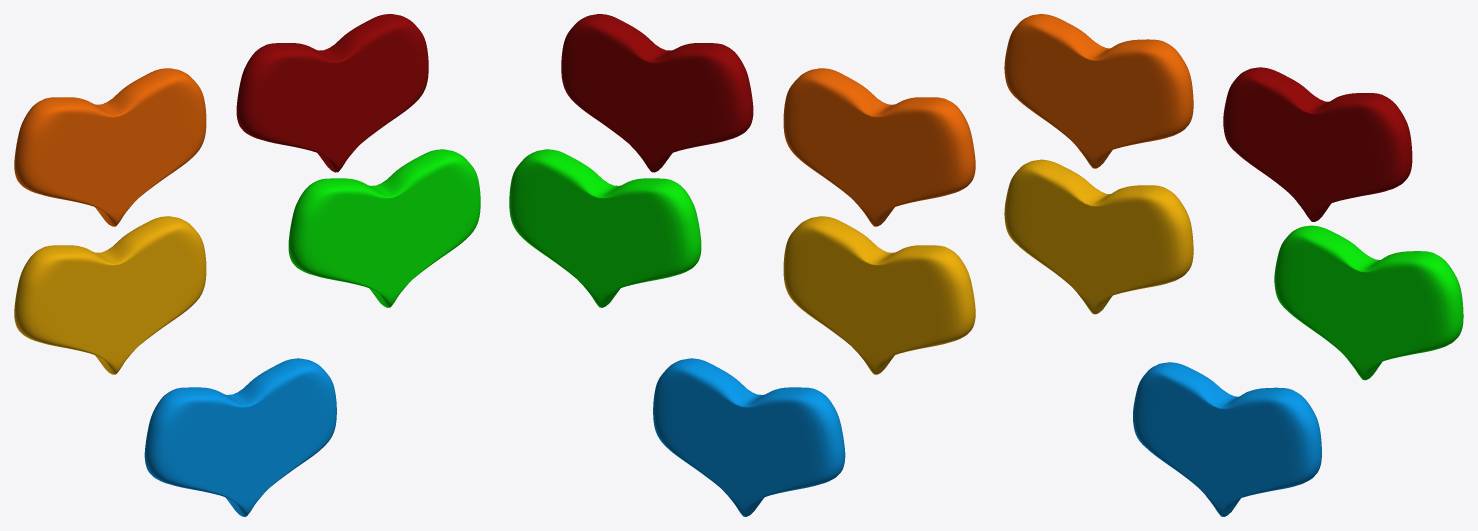
The model's file is collectables.fbx.
3 views of the same model, side by side, from view 1: azimuth 30°, elevation 25°; view 2: azimuth 150°, elevation 25°; view 3: azimuth 330°, elevation 25° (orthographic).
Parts seen in each view (by area): view 1: Heart1, Heart3, Heart2, Heart, Heart4; view 2: Heart1, Heart3, Heart2, Heart4, Heart; view 3: Heart1, Heart2, Heart3, Heart, Heart4.
Boxes of the visible parts, left/top/right/bottom form: Heart1: left=14, top=68, right=206, bottom=226; Heart3: left=288, top=149, right=480, bottom=307; Heart2: left=14, top=216, right=206, bottom=374; Heart: left=236, top=14, right=428, bottom=172; Heart4: left=144, top=358, right=336, bottom=516; Heart1: left=783, top=68, right=975, bottom=226; Heart3: left=509, top=149, right=701, bottom=307; Heart2: left=783, top=216, right=975, bottom=374; Heart4: left=653, top=358, right=845, bottom=516; Heart: left=561, top=14, right=753, bottom=172; Heart1: left=1004, top=14, right=1193, bottom=168; Heart2: left=1004, top=159, right=1193, bottom=314; Heart3: left=1274, top=225, right=1463, bottom=380; Heart: left=1223, top=67, right=1412, bottom=221; Heart4: left=1133, top=362, right=1321, bottom=516.
Bounding box in the file's own units: 23.54 × 22.45 × 1.45.
